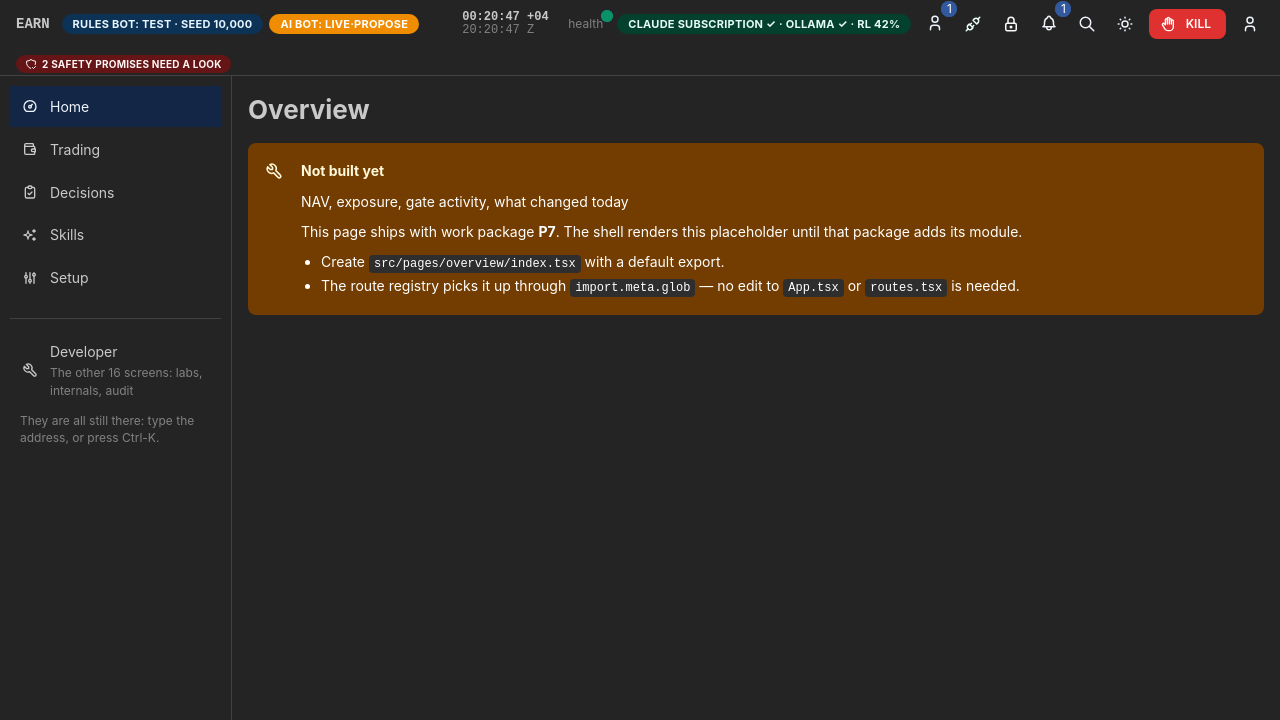
Test: shell › opens the alerts drawer and shows alerts pushed over SSE
Expected: the header with test id "app-header" is shown, [0, 0, 1279, 76]
Click the button with test id "alerts-button": (1049, 23) [1035, 9, 1063, 37]
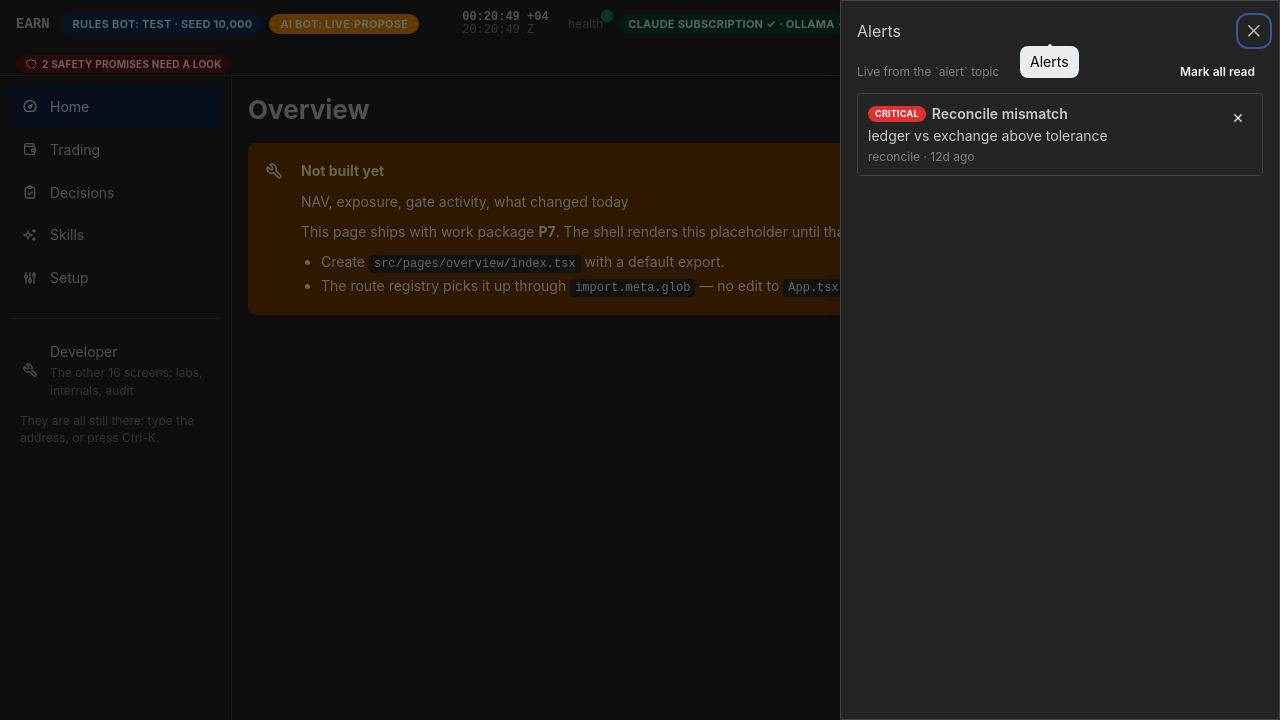
Expected: the text "Reconcile mismatch" is shown, [932, 104, 1068, 124]
